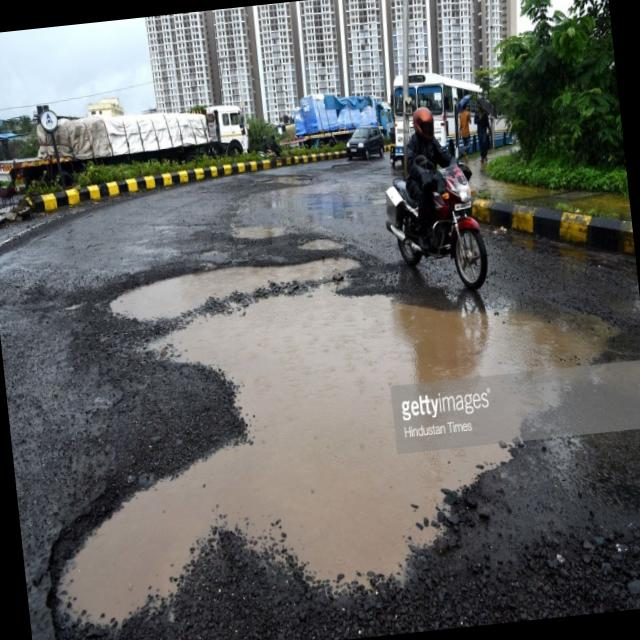Potholes: (19, 222, 640, 640)
